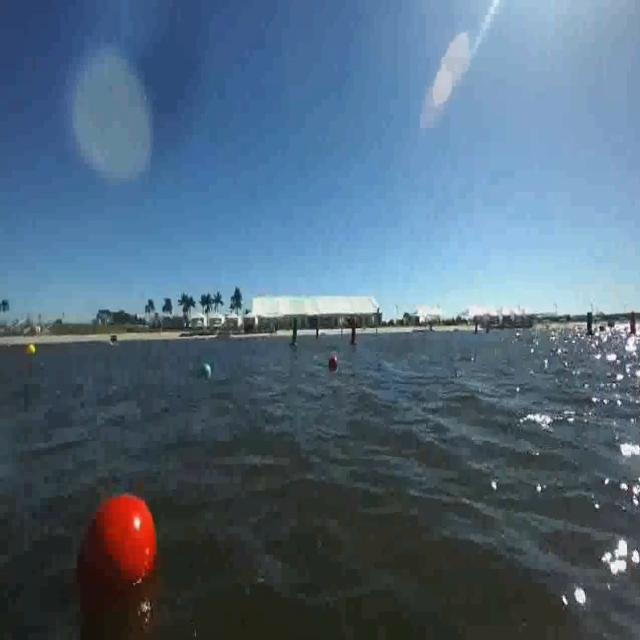green-buoy: (198, 363, 208, 385)
green-column-buoy: (289, 319, 300, 350)
red-buoy: (76, 488, 165, 627), (328, 356, 336, 367)
red-column-buoy: (350, 318, 359, 346)
yellow-buoy: (28, 342, 38, 358)
